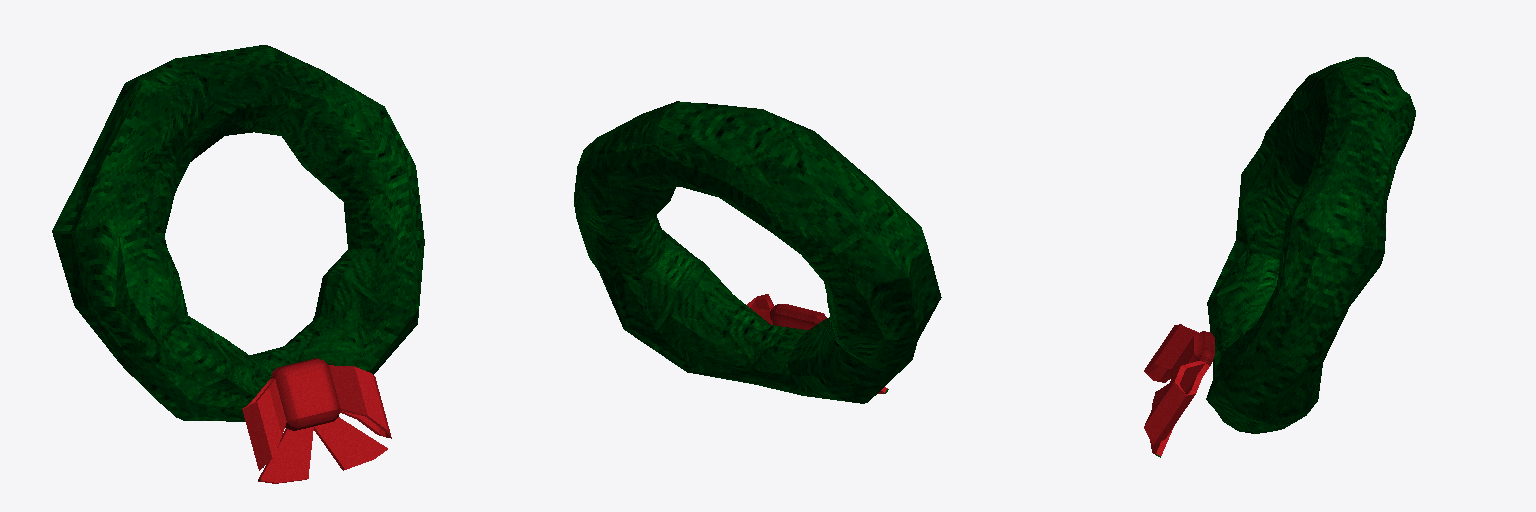
3 views of the same model, side by side, from view 1: azimuth 30°, elevation 25°; view 2: azimuth 150°, elevation 25°; view 3: azimuth 270°, elevation 25° (orthographic).
Visible parts, largest first — view 1: Handle1; view 2: Handle1; view 3: Handle1.
Boxes of the visible parts, <box> form: Handle1: <box>52,45,424,483</box>; Handle1: <box>574,101,941,403</box>; Handle1: <box>1144,57,1415,457</box>.
Bounding box in the file's own units: 1.77 × 1.72 × 1.21.
1 materials, 1 textured.